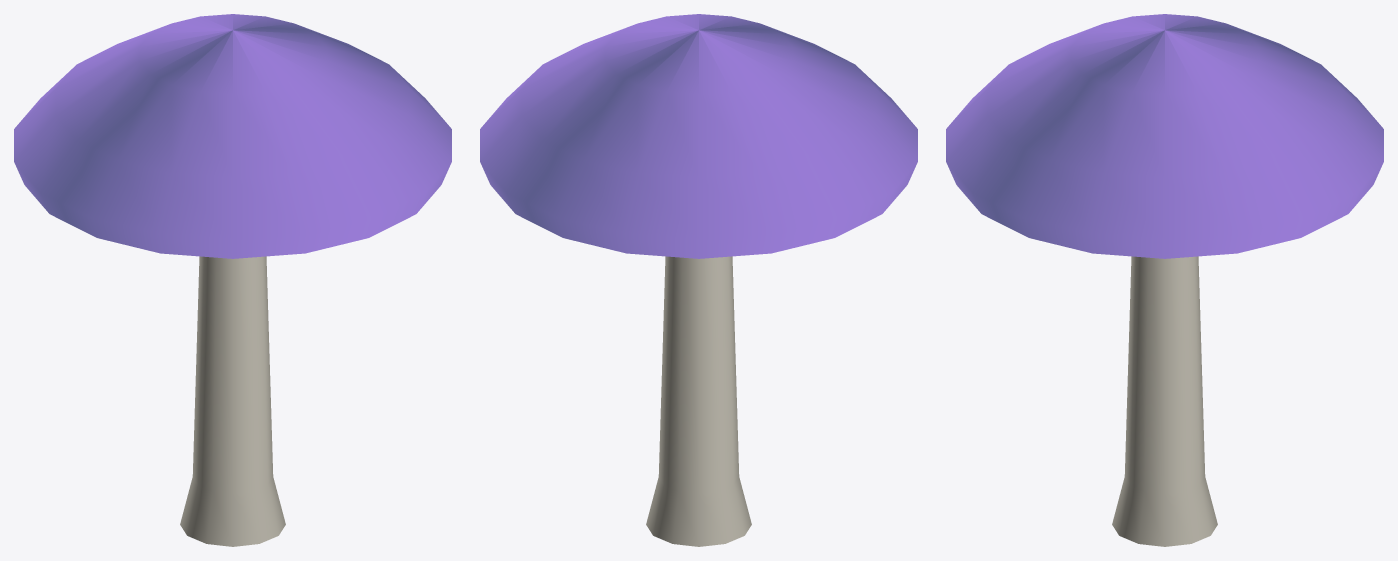
The model's file is flora_glowcap.glb.
The picture shows the model from 3 angles, left to right: view 1: azimuth 30°, elevation 25°; view 2: azimuth 150°, elevation 25°; view 3: azimuth 270°, elevation 25°; orthographic projection.
Visible parts, largest first — view 1: Crown, Trunk; view 2: Crown, Trunk; view 3: Crown, Trunk.
Boxes of the visible parts, <box> form: Crown: <box>14,14,451,258</box>; Trunk: <box>180,256,285,546</box>; Crown: <box>480,14,917,258</box>; Trunk: <box>646,256,751,546</box>; Crown: <box>946,14,1383,258</box>; Trunk: <box>1112,256,1217,546</box>.
Size of the model in its own units: 4.2 by 5.15 by 4.14.
